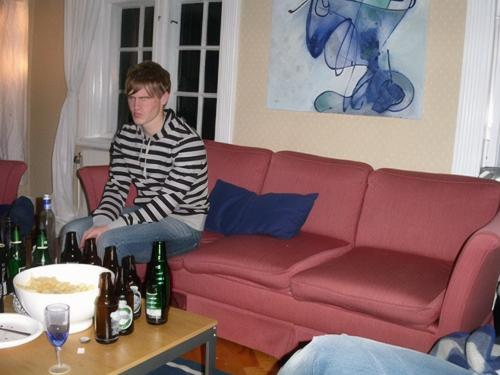bottle: (96, 269, 121, 344), (145, 259, 171, 326), (38, 193, 57, 261), (116, 268, 135, 334), (123, 255, 142, 319), (10, 226, 26, 294), (33, 232, 53, 264), (64, 233, 81, 263), (84, 238, 100, 265), (104, 247, 119, 272)
person: (67, 61, 213, 261)
person/hand: (87, 223, 108, 247), (79, 225, 95, 251)
person/head: (125, 69, 170, 126)
pottedplant: (154, 240, 173, 307)
sofa: (75, 138, 500, 364)
